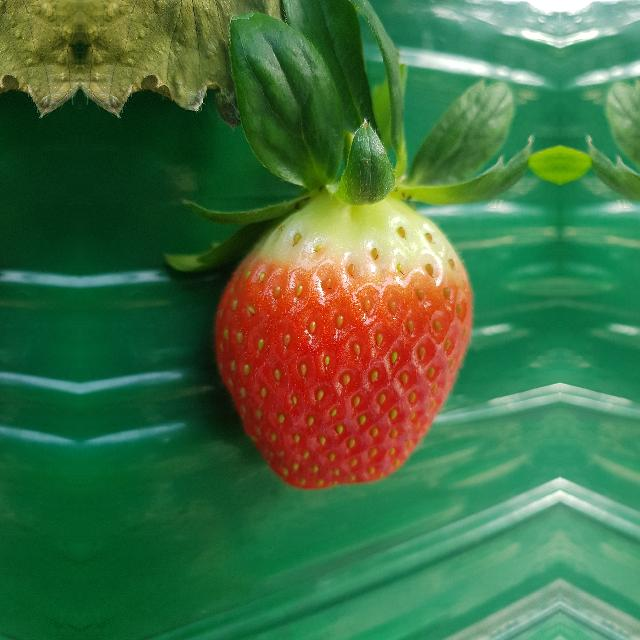Health_75: (210, 198, 470, 490)
